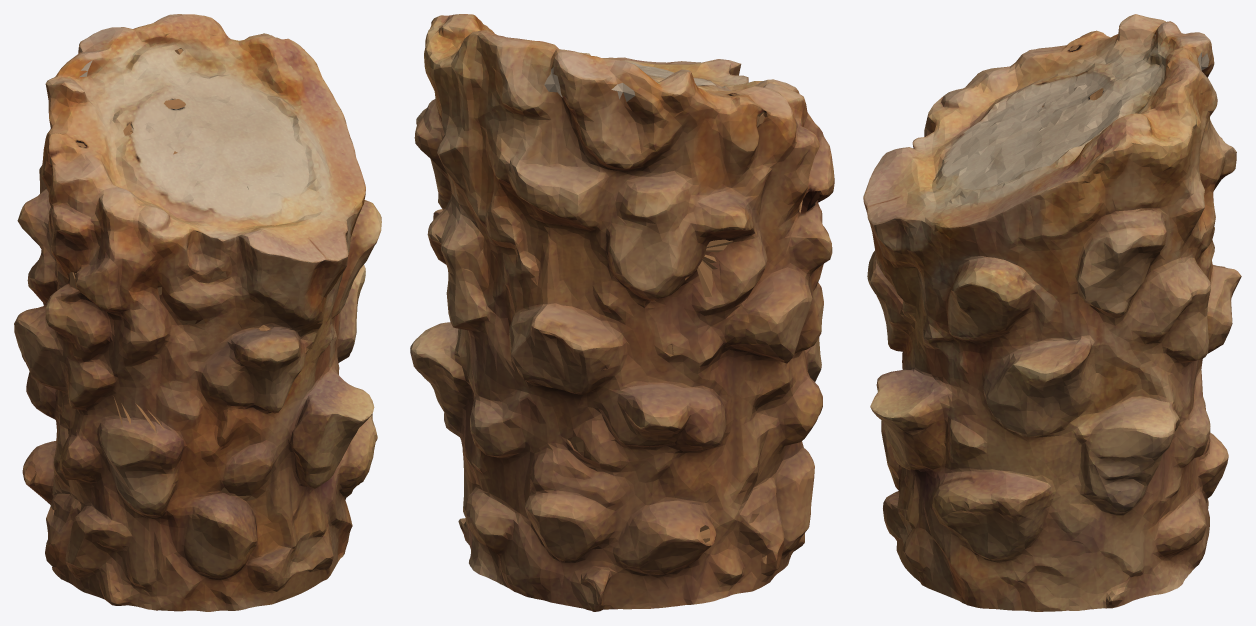
The picture shows the model from 3 angles, left to right: view 1: azimuth 30°, elevation 25°; view 2: azimuth 150°, elevation 25°; view 3: azimuth 270°, elevation 25°; orthographic projection. The views are drawn at different scales.
Parts seen in each view (by area): view 1: world; view 2: world; view 3: world.
Part boxes in pixels (left/top/right/bottom): world: left=14, top=14, right=381, bottom=611; world: left=410, top=14, right=834, bottom=611; world: left=863, top=14, right=1241, bottom=611.
Size of the model in its own units: 0.6978 by 0.9641 by 0.6566.
Materials: 1 (1 with a texture image).
